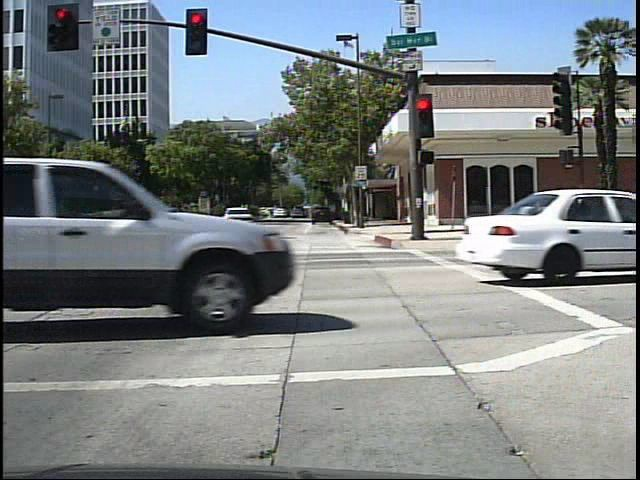person: (266, 205, 278, 224)
